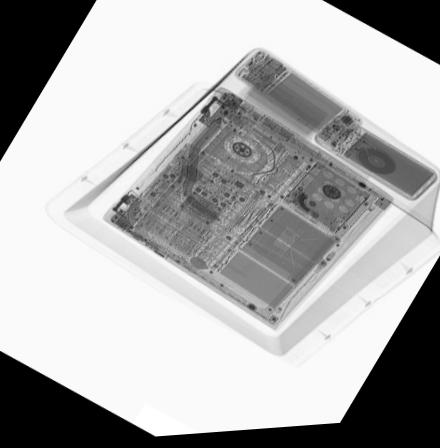Powerbank: (314, 118, 438, 207)
